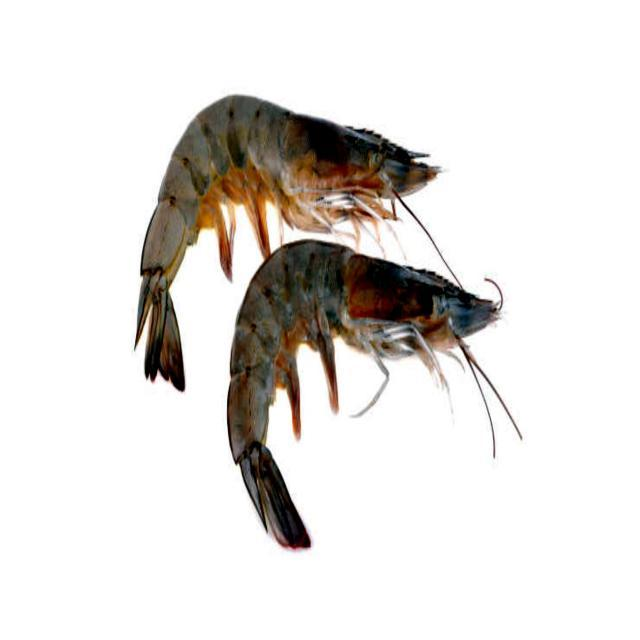shrimp: (136, 96, 438, 389), (229, 240, 497, 547)
